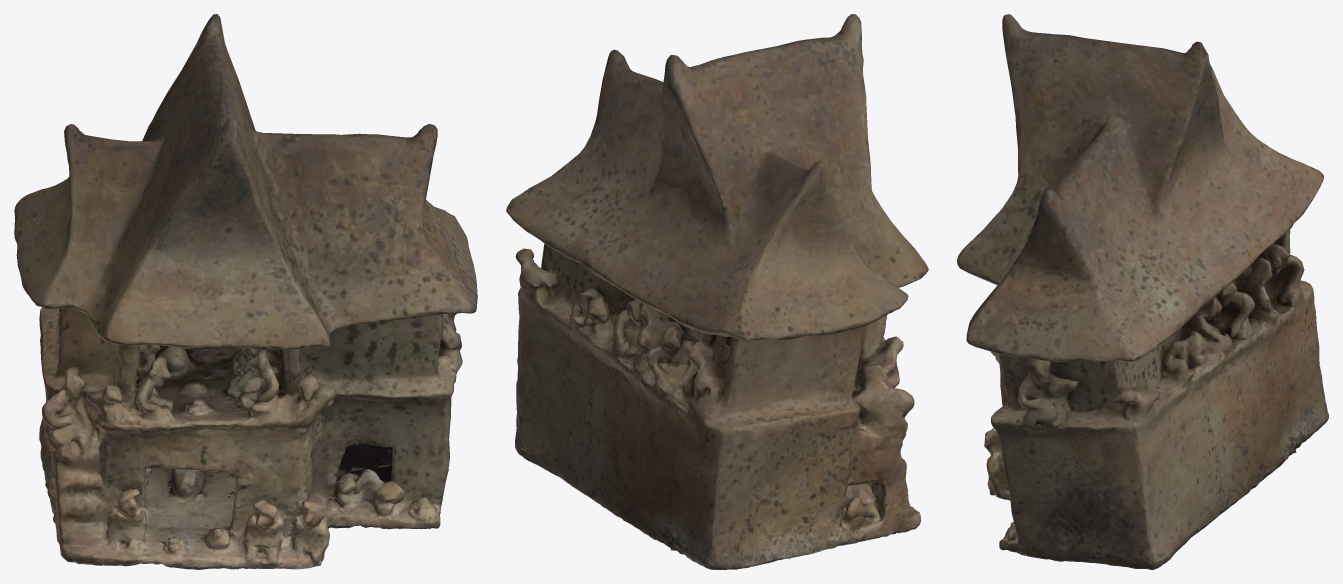
The model's file is preview.glb.
3 views of the same model, side by side, from view 1: azimuth 30°, elevation 25°; view 2: azimuth 150°, elevation 25°; view 3: azimuth 270°, elevation 25° (orthographic). The views are drawn at different scales.
Visible parts, largest first — view 1: ADVIMG_2015_306_HouseModel_n3d; view 2: ADVIMG_2015_306_HouseModel_n3d; view 3: ADVIMG_2015_306_HouseModel_n3d.
Boxes of the visible parts, left/top/right/bottom form: ADVIMG_2015_306_HouseModel_n3d: left=14, top=14, right=477, bottom=569; ADVIMG_2015_306_HouseModel_n3d: left=506, top=14, right=928, bottom=569; ADVIMG_2015_306_HouseModel_n3d: left=957, top=14, right=1328, bottom=569.
Size of the model in its own units: 0.287 by 0.3152 by 0.2337.
Materials: 1 (1 with a texture image).
